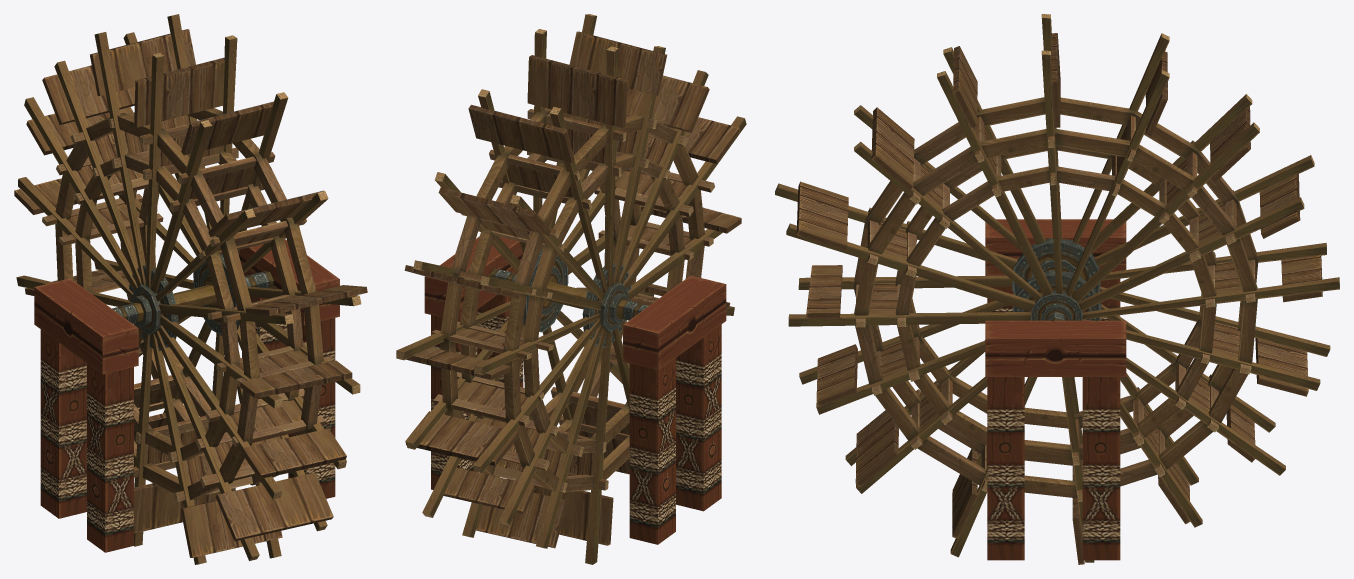
File: DBXJ_05.FBX
3 views of the same model, side by side, from view 1: azimuth 30°, elevation 25°; view 2: azimuth 150°, elevation 25°; view 3: azimuth 270°, elevation 25° (orthographic). The views are drawn at different scales.
Visible parts, largest first — view 1: DBXJ_05; view 2: DBXJ_05; view 3: DBXJ_05.
Part boxes in pixels (<box>): DBXJ_05: <box>14,14,367,564</box>; DBXJ_05: <box>396,14,746,564</box>; DBXJ_05: <box>775,14,1339,564</box>.
Bounding box in the file's own units: 739 × 1503 × 1481.
